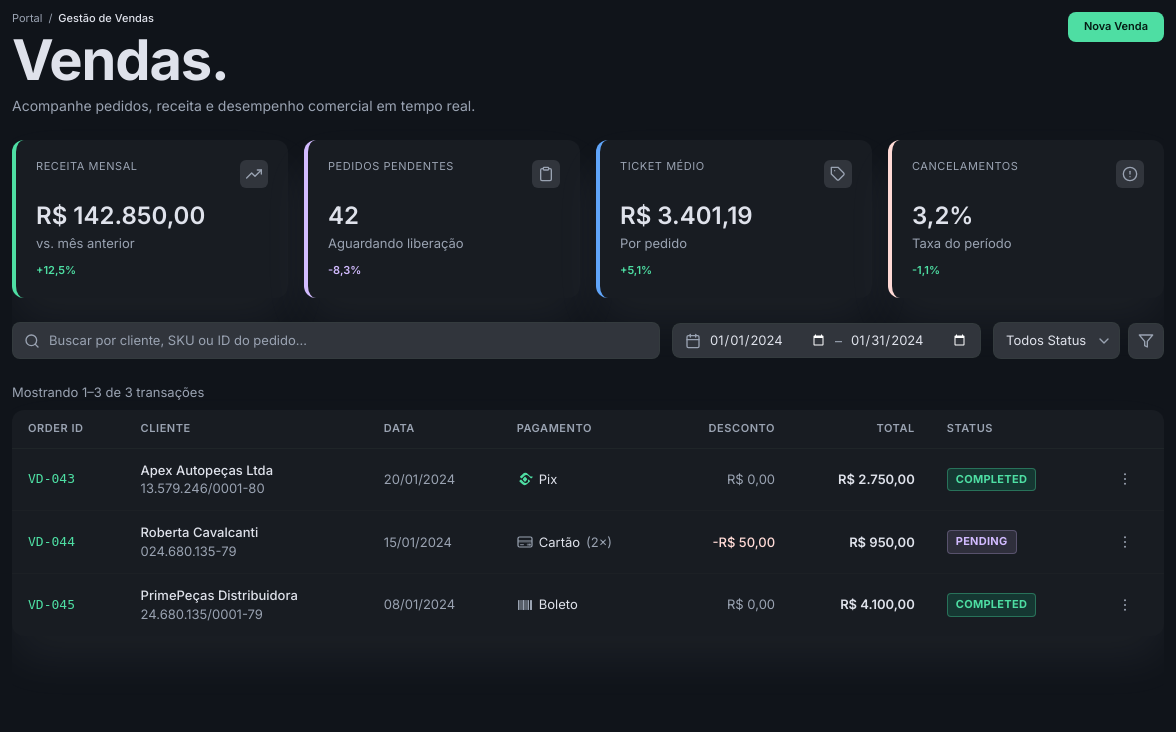
Test case: SalesPage — 3.x Filtros (integração) › 3.3 selecionar "Pending" exibe apenas linhas com status pending
The image size is (1176, 732).
Select "Pending" in the dropdown named "filtrar por status" at (1056, 340), box 993,322 -> 1120,359
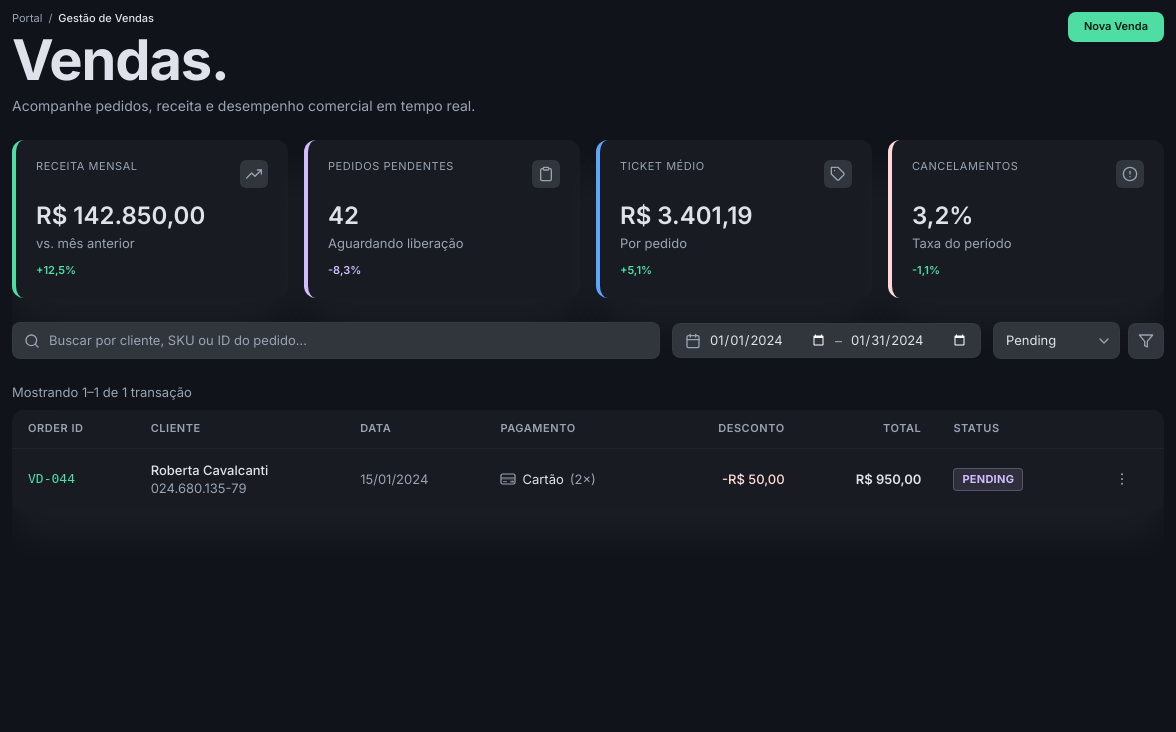
Expected: the text "Roberta Cavalcanti" is shown, 151,462 -> 268,478
Result: the text "Apex Autopeças Ltda" is gone
Result: the text "Mostrando 1–1 de 1 transação" is shown at 12,384 -> 192,400
